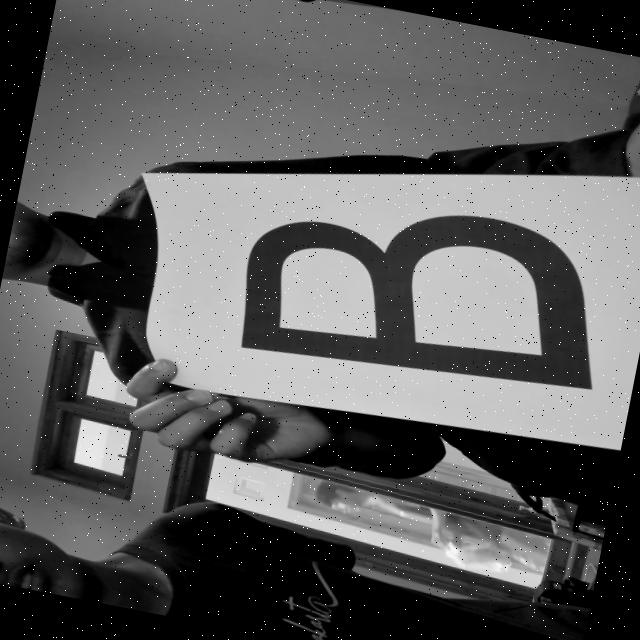b: (205, 164, 628, 443)
